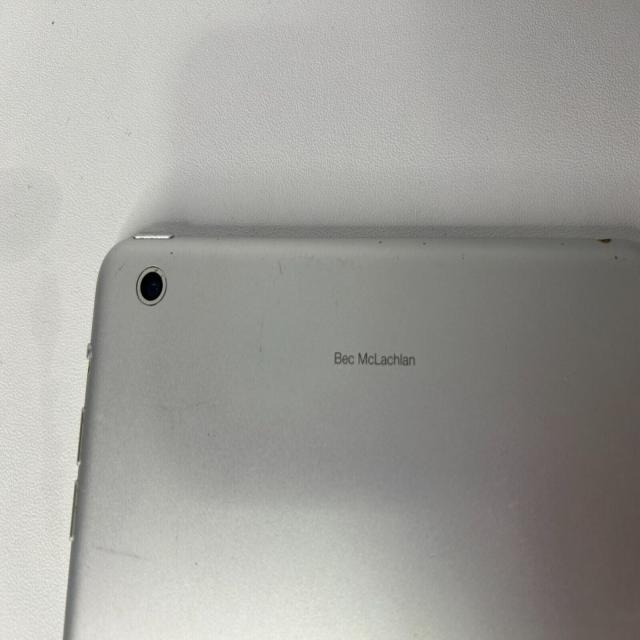Dents: (419, 238, 431, 252), (610, 253, 621, 265), (169, 248, 176, 260), (376, 239, 387, 246)
